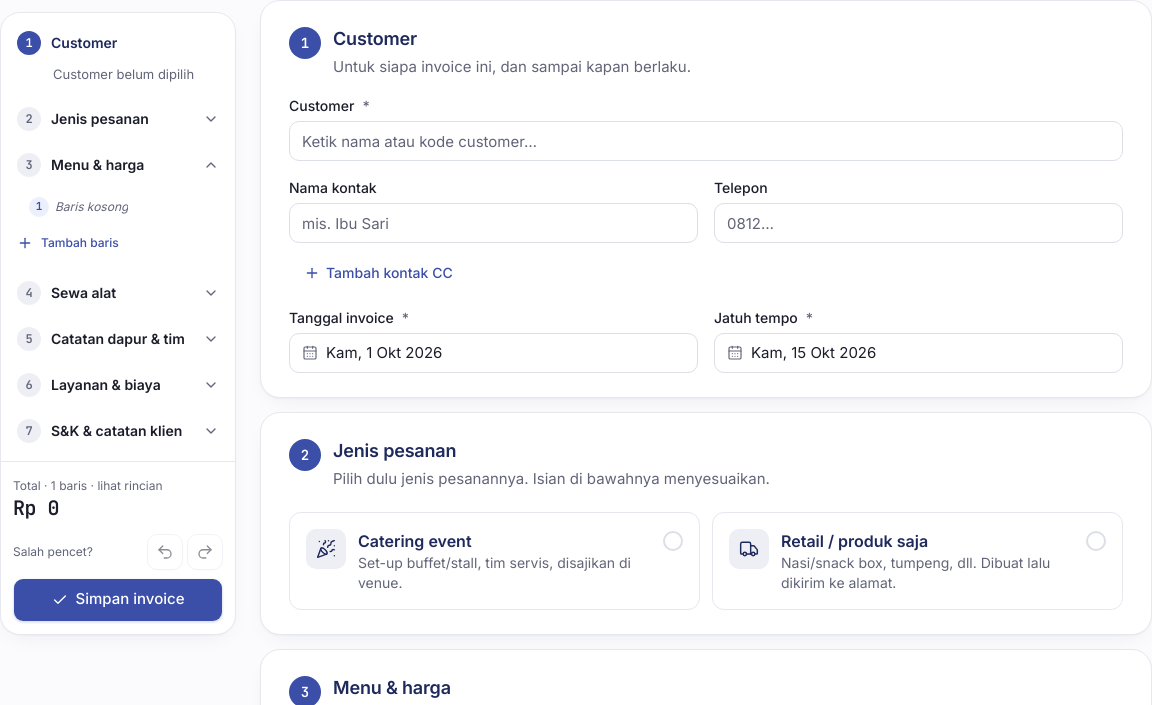
Test: FormDokumen — memilih customer › mengisi kontak dari customer yang dipilih
Type "House of Sekar" into the dropdown labelled "Customer *" at (706, 141), box [289,121,1123,161]
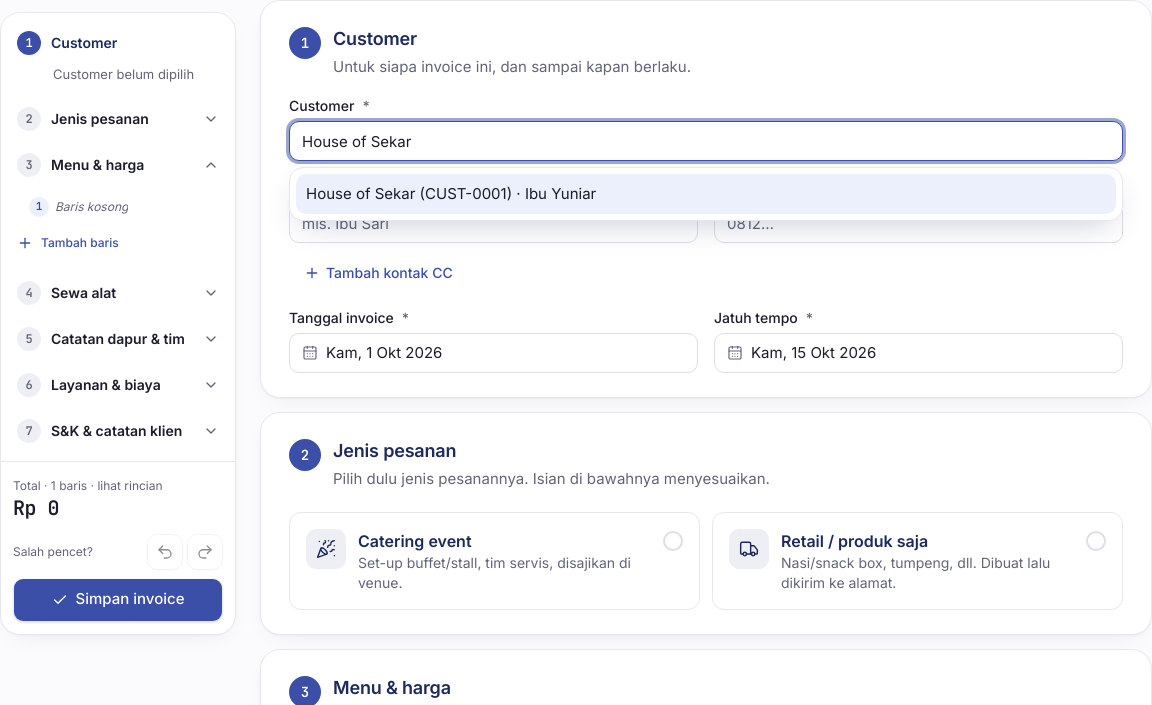
Click the button "House of Sekar (CUST-0001) · Ibu Yuniar" at (451, 194), box [296,174,1116,214]
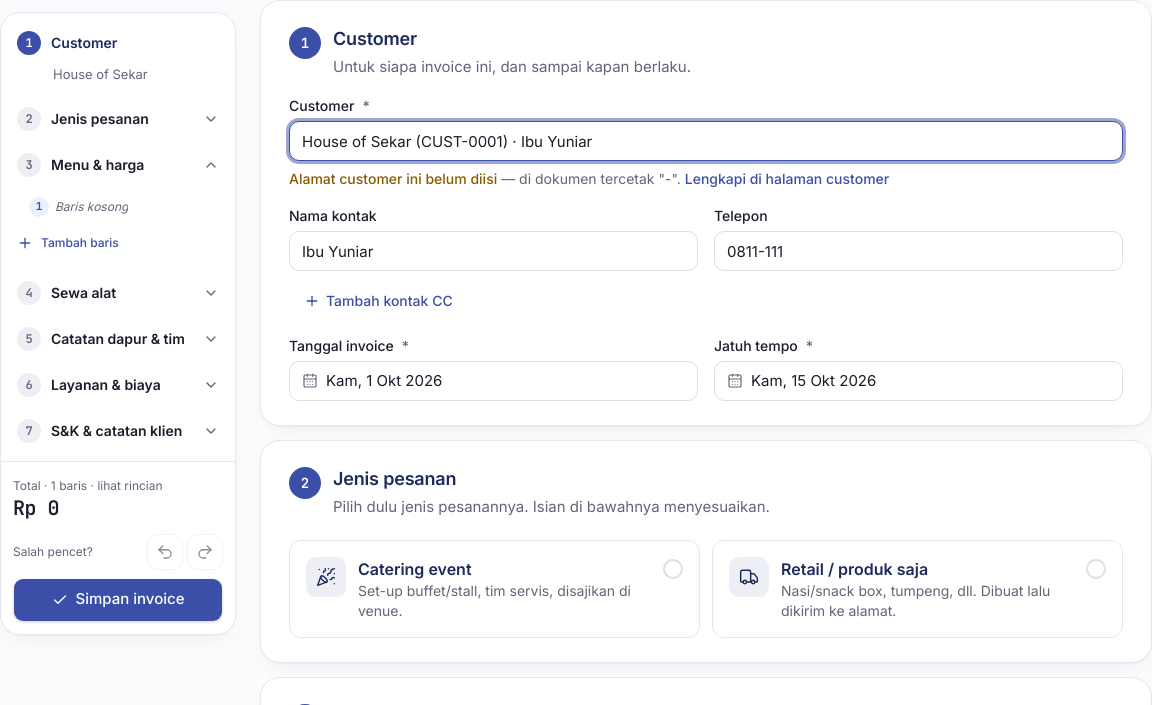
Expected: the field labelled "Nama kontak" holds "Ibu Yuniar", [289,231,698,271]
Expected: the field labelled "Telepon" holds "0811-111", [714,231,1123,271]
